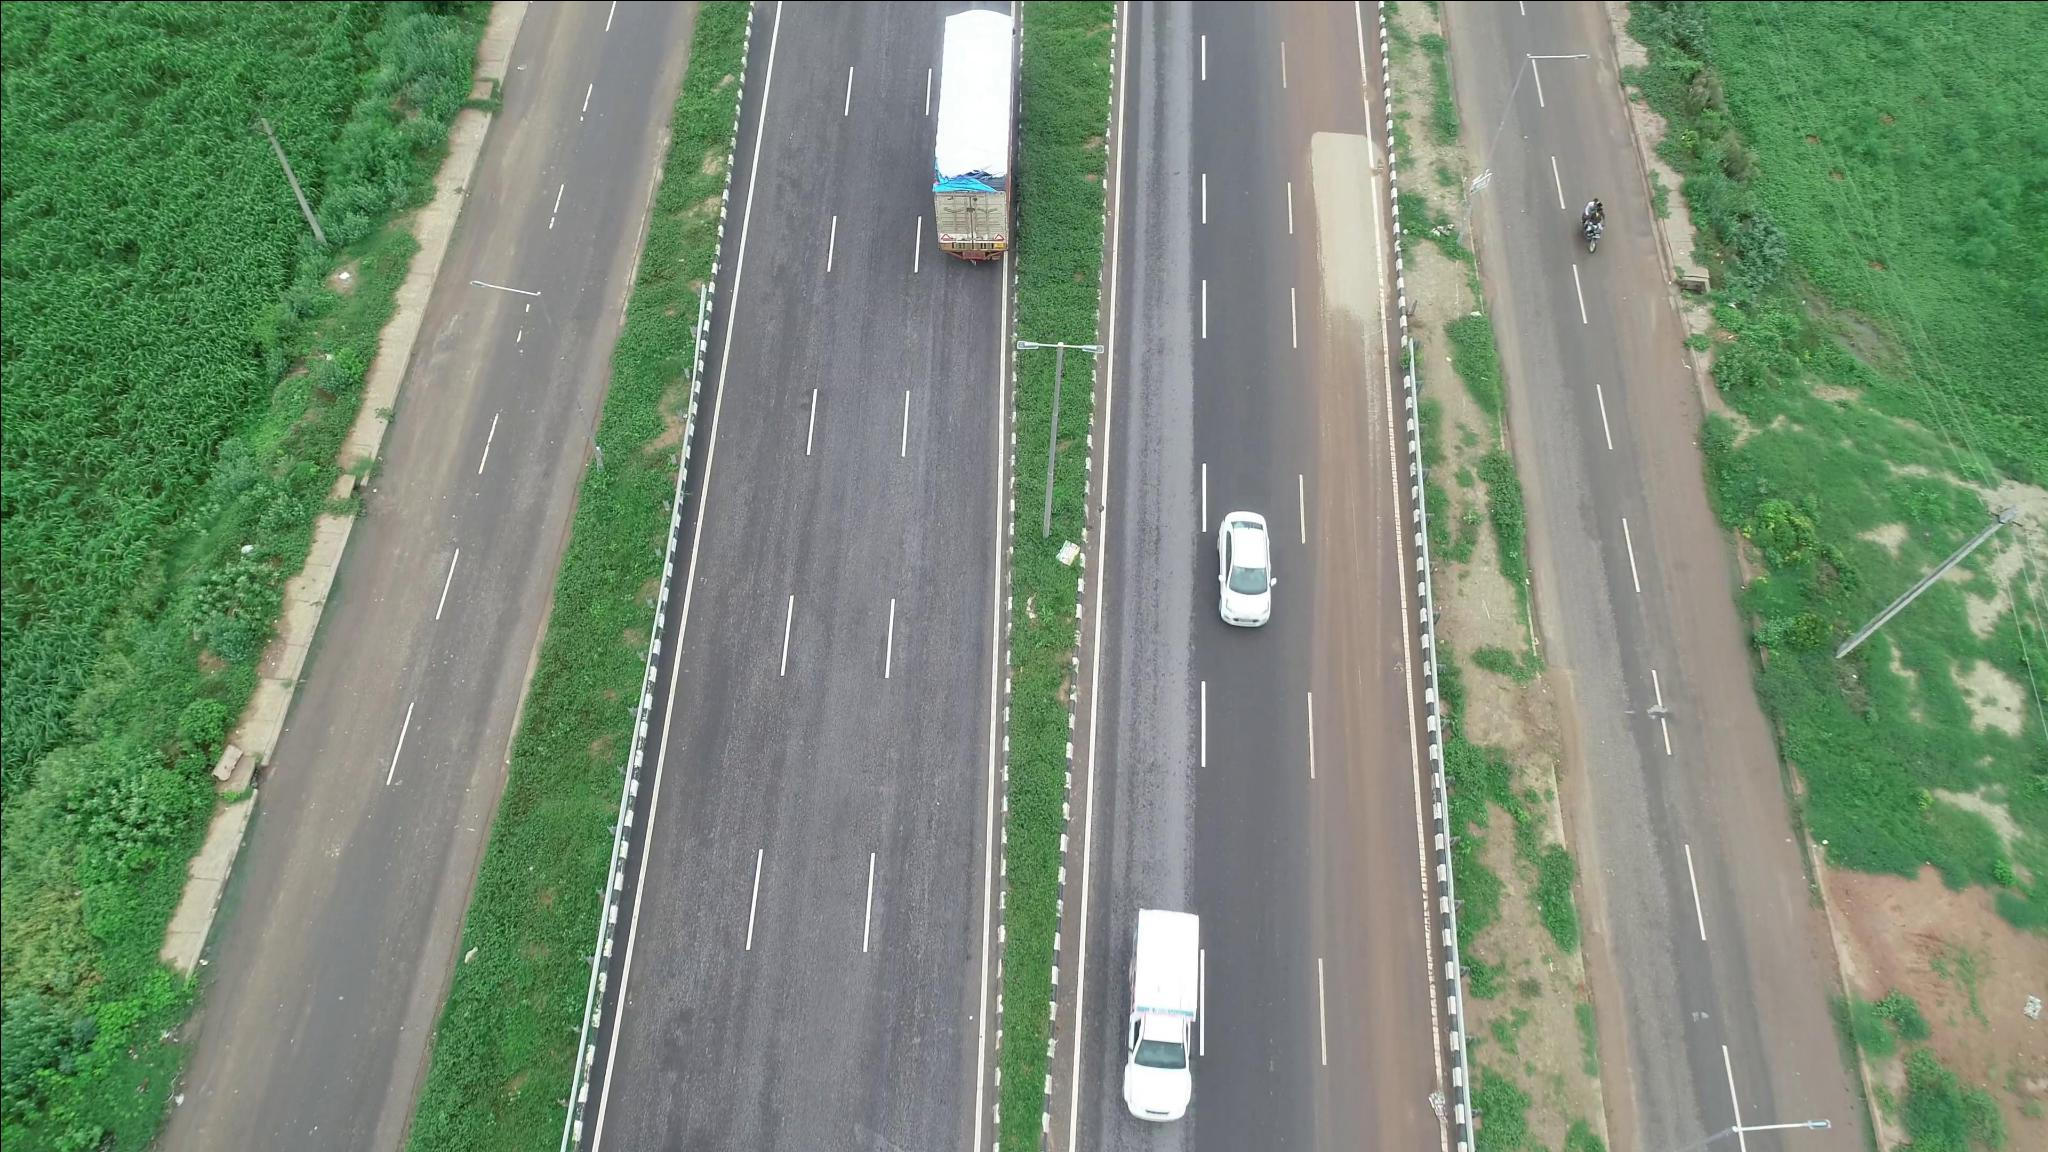Muddy_road: (1293, 333, 1402, 776), (1303, 786, 1426, 1144)
